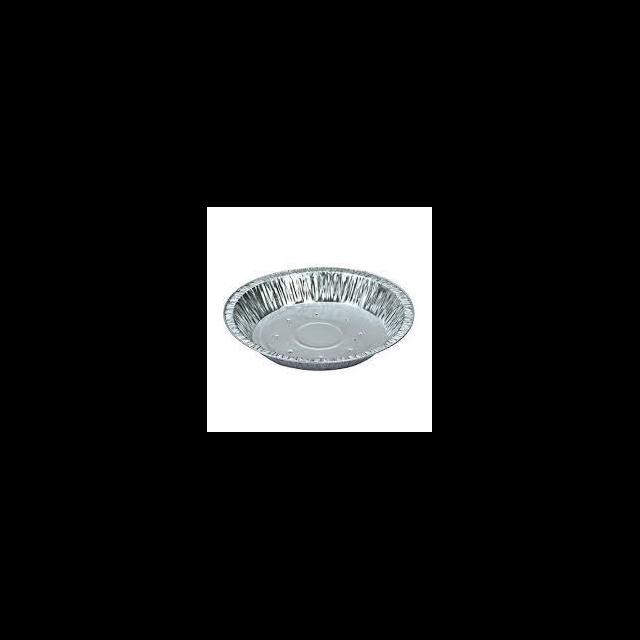metal: (222, 266, 414, 371)
